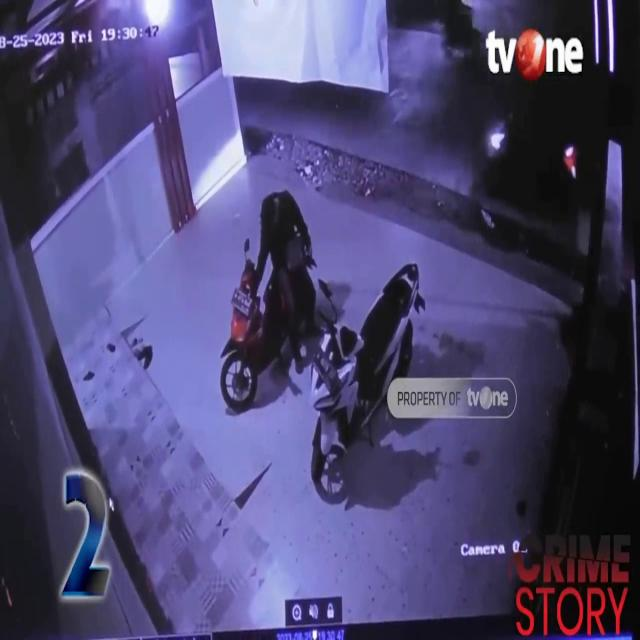pencurian: (233, 175, 309, 381)
